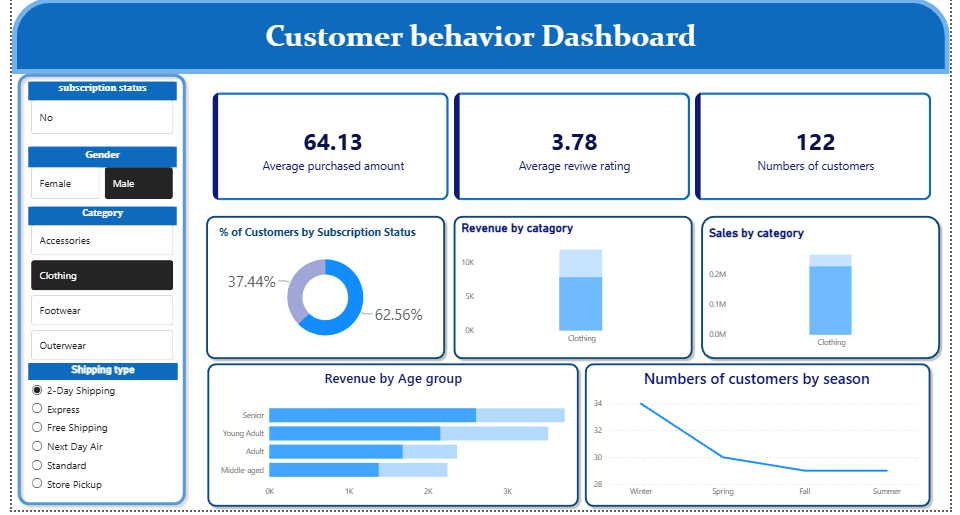

What the dashboard file says about the page in this screenshot:
{"tool":"powerbi","page":{"name":"Page 1","canvas":[1500,820],"ordinal":0},"visuals":[{"type":"cardVisual","fields":{"Data":["customer_behavior customers.Average purchased amount","customer_behavior customers.Average reviwe rating","customer_behavior customers.Numbers of customers"]},"box":[305,133.7,1186.6,207.5],"z":0},{"type":"shape","box":[0,0,1500.3,121.7],"z":1000},{"type":"textbox","box":[0,8.4,1500.3,106.3],"z":2000},{"type":"shape","box":[305,341.2,395.5,242.3],"z":3000},{"type":"donutChart","title":"% of Customers by Subscription Status","fields":{"Category":["customer_behavior customers.subscription_status"],"Y":["Count(customer_behavior customers.customer_id)"]},"box":[325.9,362.1,351,200.5],"z":4000},{"type":"shape","box":[1096,341.2,395.5,242.3],"z":5000},{"type":"shape","box":[700.5,341.2,395.5,242.3],"z":6000},{"type":"clusteredColumnChart","title":"Revenue by catagory","fields":{"Y":["Sum(customer_behavior customers.purchased_amount)"],"Category":["customer_behavior customers.category"]},"box":[714.4,356.5,366.3,206.1],"z":6001},{"type":"clusteredColumnChart","title":"Sales by category","fields":{"Y":["Sum(customer_behavior customers.customer_id)"],"Category":["customer_behavior customers.category"]},"box":[1110.2,363.2,366.3,204.7],"z":6002},{"type":"shape","box":[0,111,287.1,708.9],"z":6003},{"type":"advancedSlicerVisual","title":"subscription status","fields":{"Values":["customer_behavior customers.subscription_status"]},"box":[25.4,133.2,237.9,88.8],"z":6004},{"type":"advancedSlicerVisual","title":"Gender","fields":{"Values":["customer_behavior customers.gender"]},"box":[25.4,237.9,237.9,88.8],"z":6005},{"type":"advancedSlicerVisual","title":"Category","fields":{"Values":["customer_behavior customers.category"]},"box":[25.4,333.1,237.9,250.6],"z":6006},{"type":"listSlicer","title":"Shipping type","fields":{"Values":["customer_behavior customers.shipping_type"]},"box":[27,583.6,239.5,215.7],"z":6007},{"type":"shape","box":[306.1,577.3,607.4,242.7],"z":6009},{"type":"clusteredBarChart","title":"Revenue by Age group","fields":{"Category":["customer_behavior customers.age_group"],"Y":["Sum(customer_behavior customers.purchased_amount)"]},"box":[323.5,591.6,572.5,215.7],"z":6010},{"type":"shape","box":[910.3,577.3,566.2,242.7],"z":6011},{"type":"lineChart","fields":{"Category":["customer_behavior customers.season"],"Y":["customer_behavior customers.Numbers of customers"]},"box":[926.2,591.6,531.3,215.7],"z":6012}]}

Visuals, with their boxes in screenshot pixels (x1, y1, x2, y2), scaled from the page's 1500x820 canvas onto the 960x515 screenshot:
cardVisual - customer_behavior customers.Average purchased amount x customer_behavior customers.Average reviwe rating: 195,84,955,214
shape: 0,0,959,76
textbox: 0,5,959,72
shape: 195,214,448,366
"% of Customers by Subscription Status" donutChart: 209,227,433,353
shape: 701,214,955,366
shape: 448,214,701,366
"Revenue by catagory" clusteredColumnChart: 457,224,692,353
"Sales by category" clusteredColumnChart: 711,228,945,357
shape: 0,70,184,514
"subscription status" advancedSlicerVisual: 16,84,169,139
"Gender" advancedSlicerVisual: 16,149,169,205
"Category" advancedSlicerVisual: 16,209,169,367
"Shipping type" listSlicer: 17,367,171,502
shape: 196,363,585,514
"Revenue by Age group" clusteredBarChart: 207,372,573,507
shape: 583,363,945,514
lineChart - customer_behavior customers.season x customer_behavior customers.Numbers of customers: 593,372,933,507
